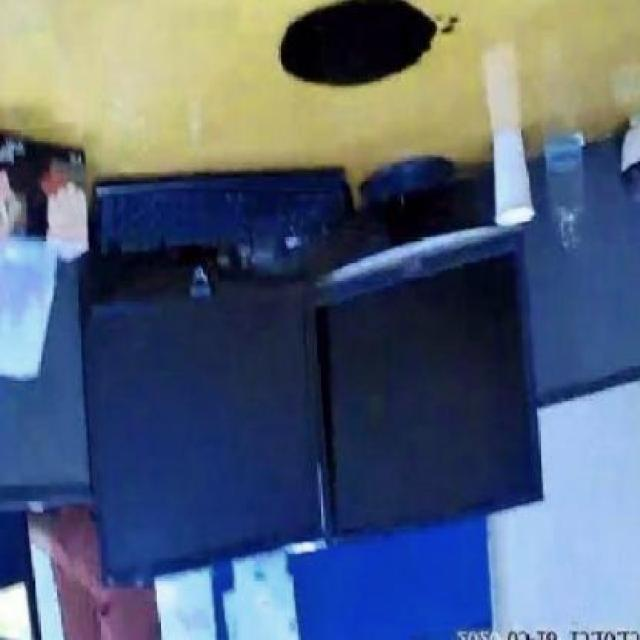spillage: (277, 0, 456, 87)
